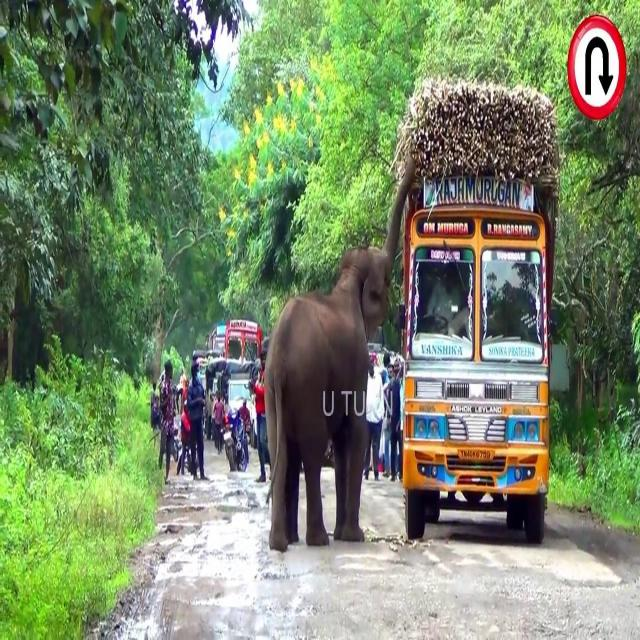Elephant: (263, 157, 415, 555)
